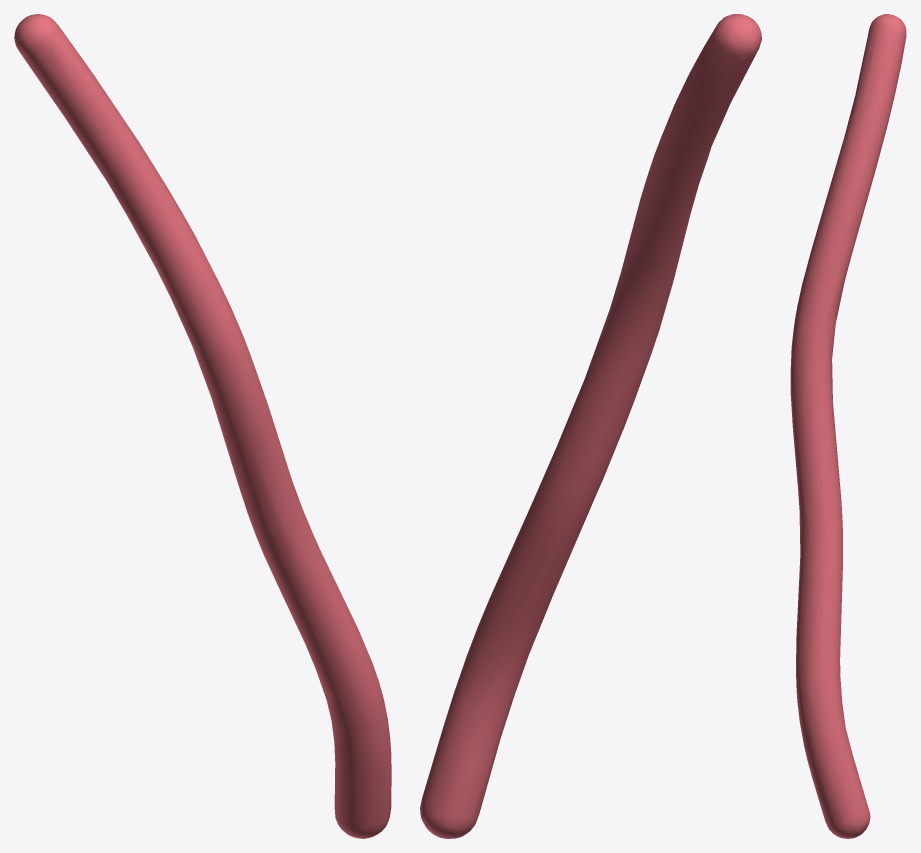
File: fma66531_fj4989.glb
3 renders of one model, left to right at view 1: azimuth 30°, elevation 25°; view 2: azimuth 150°, elevation 25°; view 3: azimuth 270°, elevation 25°, orthographic. The views are drawn at different scales.
Parts seen in each view (by area): view 1: FMA66531_FJ4989; view 2: FMA66531_FJ4989; view 3: FMA66531_FJ4989.
Boxes of the visible parts, x1,y1,x2,y2 form: FMA66531_FJ4989: (14, 14, 391, 838); FMA66531_FJ4989: (420, 14, 761, 838); FMA66531_FJ4989: (790, 14, 906, 838).
Size of the model in its own units: 0.025 by 0.0607 by 0.00907.
